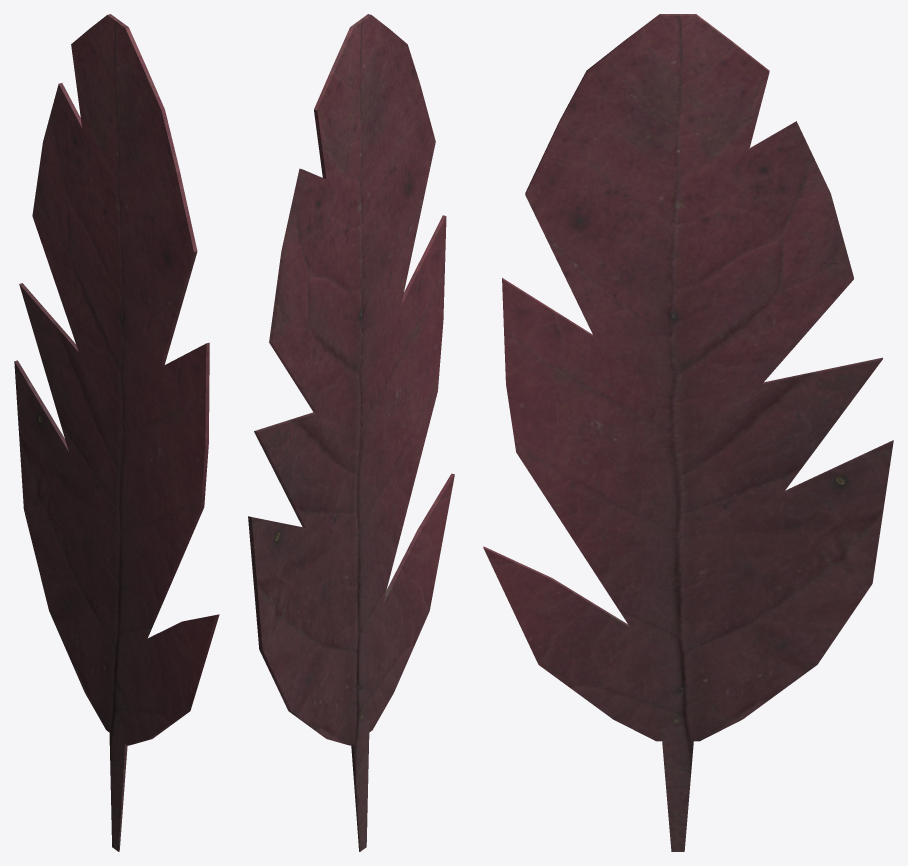
The model's file is Leaf1Complete.fbx.
The picture shows the model from 3 angles, left to right: view 1: azimuth 30°, elevation 25°; view 2: azimuth 150°, elevation 25°; view 3: azimuth 270°, elevation 25°; orthographic projection.
Visible parts, largest first — view 1: leaf1Complete; view 2: leaf1Complete; view 3: leaf1Complete.
Boxes of the visible parts, x1,y1,x2,y2 form: leaf1Complete: [14, 14, 219, 851]; leaf1Complete: [248, 14, 454, 851]; leaf1Complete: [483, 14, 893, 851].
Size of the model in its own units: 0.3579 by 31.56 by 14.
